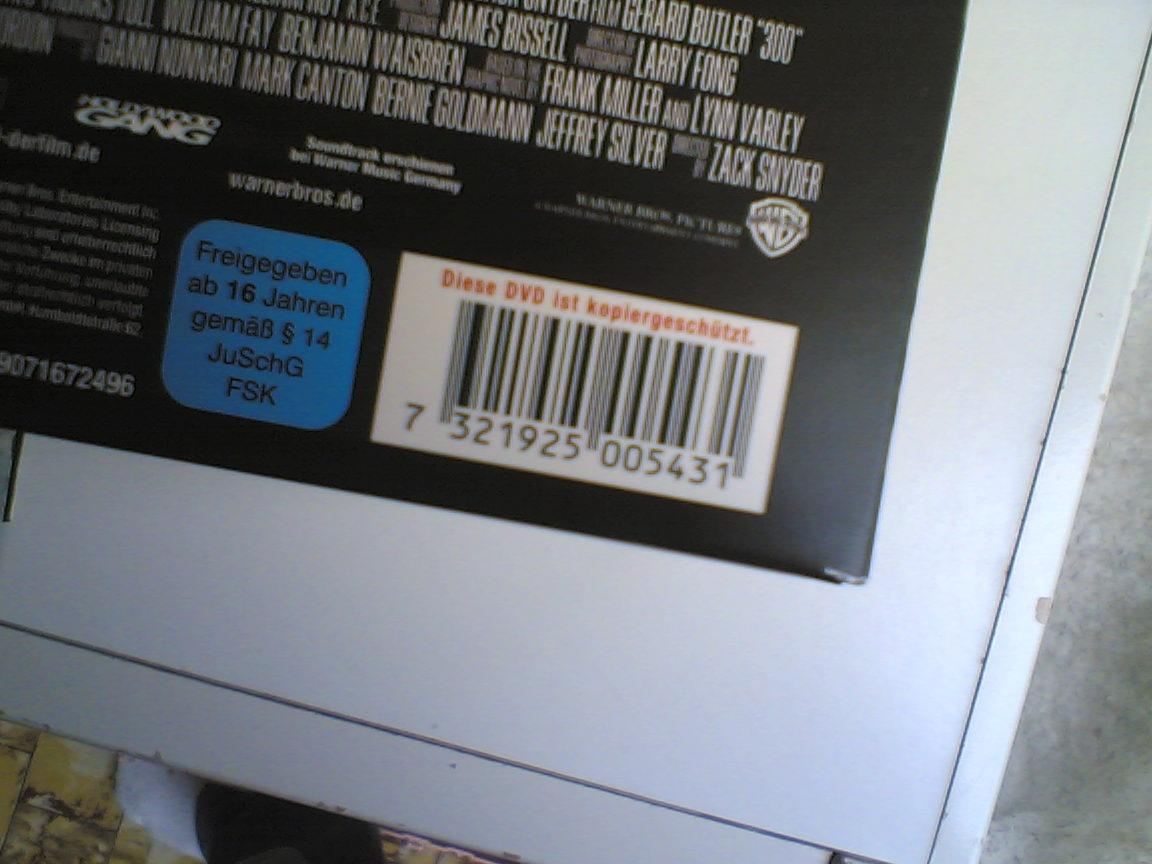Barcode: (367, 245, 803, 519)
